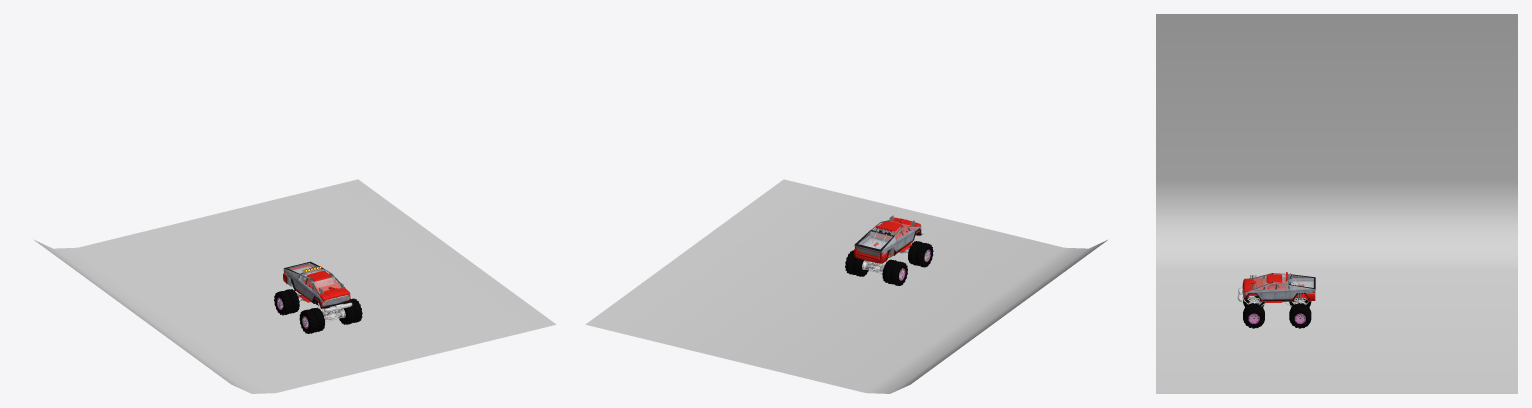
The model's file is WIP_1.glb.
The picture shows the model from 3 angles, left to right: view 1: azimuth 30°, elevation 25°; view 2: azimuth 150°, elevation 25°; view 3: azimuth 270°, elevation 25°; orthographic projection. The views are drawn at different scales.
Parts seen in each view (by area): view 1: Plane, Chassi_2, Wheels_1, Chassi_1; view 2: Plane, Wheels_1, Chassi_2, Chassi_1; view 3: Plane, Chassi_2, Chassi_1, Wheels_1.
Boxes of the visible parts, x1,y1,x2,y2 form: Plane: [33, 179, 556, 393]; Chassi_2: [283, 261, 350, 308]; Wheels_1: [274, 289, 362, 333]; Chassi_1: [283, 264, 350, 306]; Plane: [585, 179, 1108, 393]; Wheels_1: [845, 241, 933, 285]; Chassi_2: [854, 220, 921, 259]; Chassi_1: [854, 215, 921, 263]; Plane: [1156, 14, 1517, 393]; Chassi_2: [1242, 273, 1315, 301]; Chassi_1: [1243, 272, 1315, 302]; Wheels_1: [1243, 299, 1311, 328].
Size of the model in its own units: 28.45 by 19.7 by 28.45.
13 materials, 2 textured.
